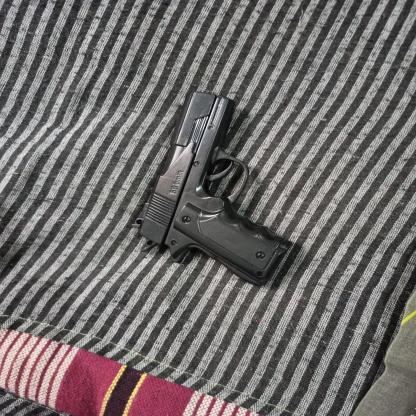handgun: (133, 88, 299, 293)
